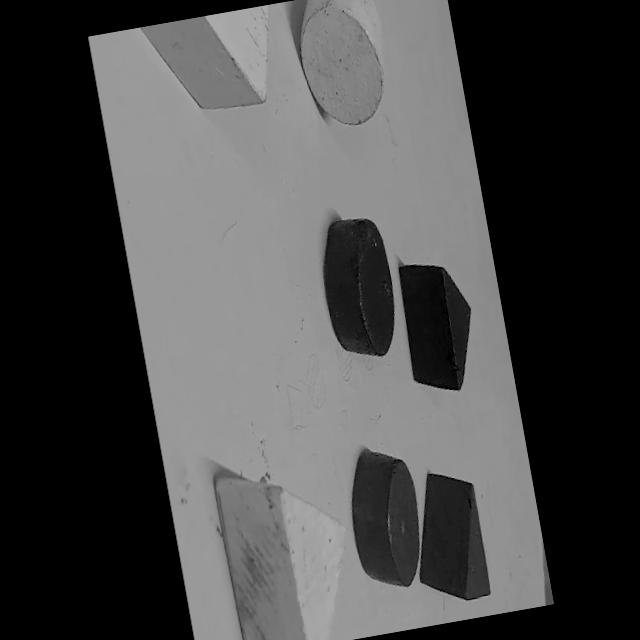bcircle: (312, 210, 406, 366)
btriangle: (392, 253, 484, 402)
rcircle: (338, 441, 432, 595)
rcube: (408, 464, 504, 614)
ycircle: (291, 0, 396, 133)
ycube: (134, 5, 286, 126)
ytriangle: (211, 451, 364, 640)
